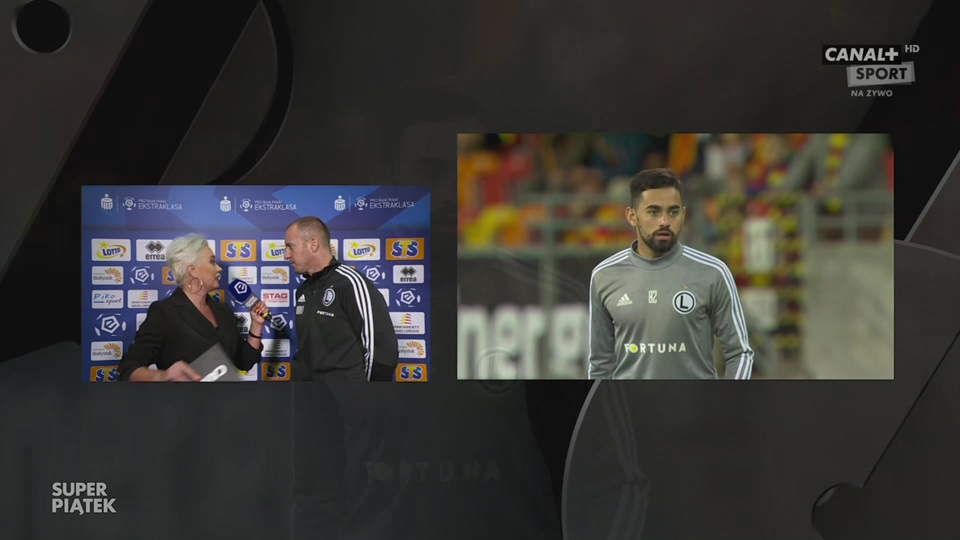pko: (216, 195, 233, 215), (98, 191, 113, 212), (332, 194, 347, 212)
